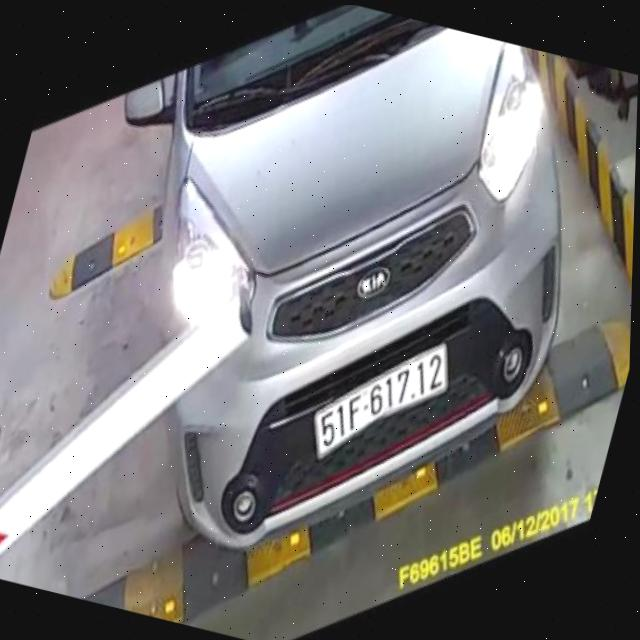car: (5, 0, 637, 619)
plate: (298, 316, 468, 489)
